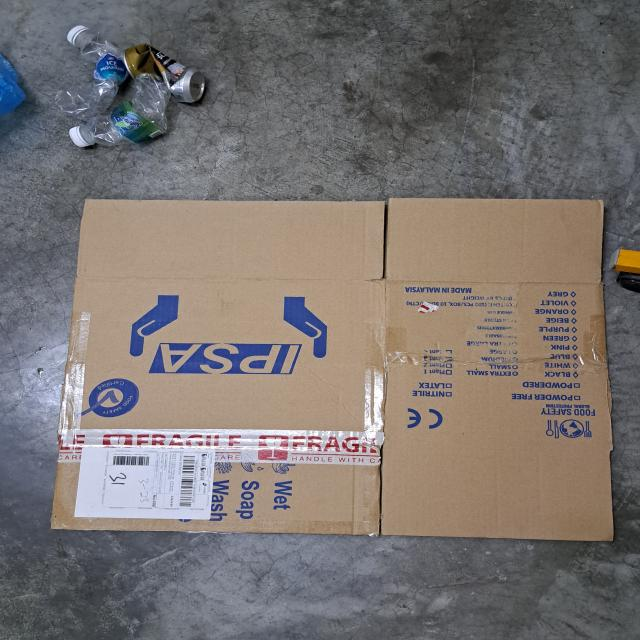can: (130, 46, 213, 106)
cardboard: (67, 189, 626, 541)
plastic bottle: (87, 77, 177, 151), (62, 40, 130, 112)
plastic bottle cap: (67, 21, 88, 42), (69, 122, 84, 143)
